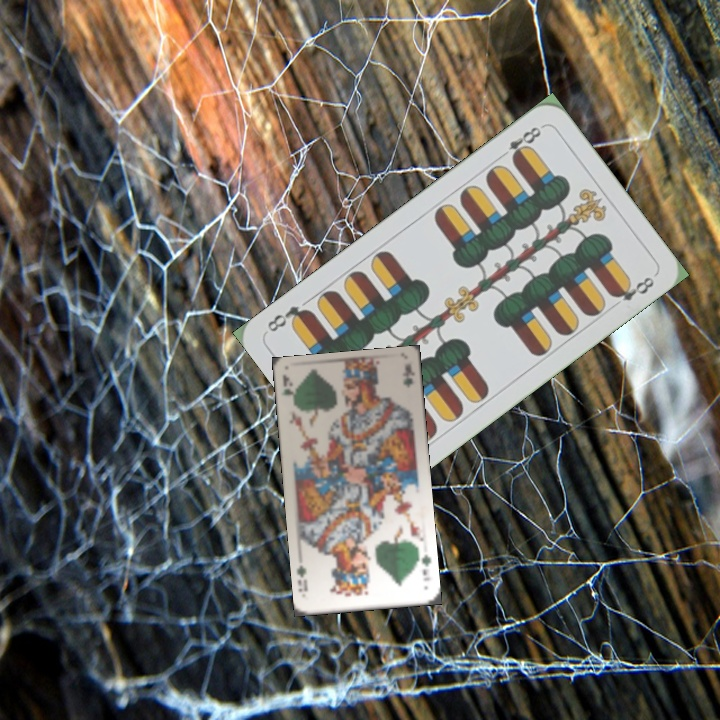E8: (495, 122, 546, 164)
GK: (278, 371, 299, 411), (414, 549, 434, 584)
